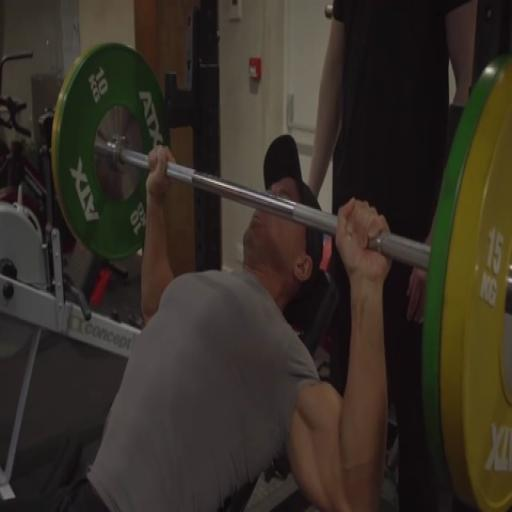exercise: (0, 132, 396, 511)
